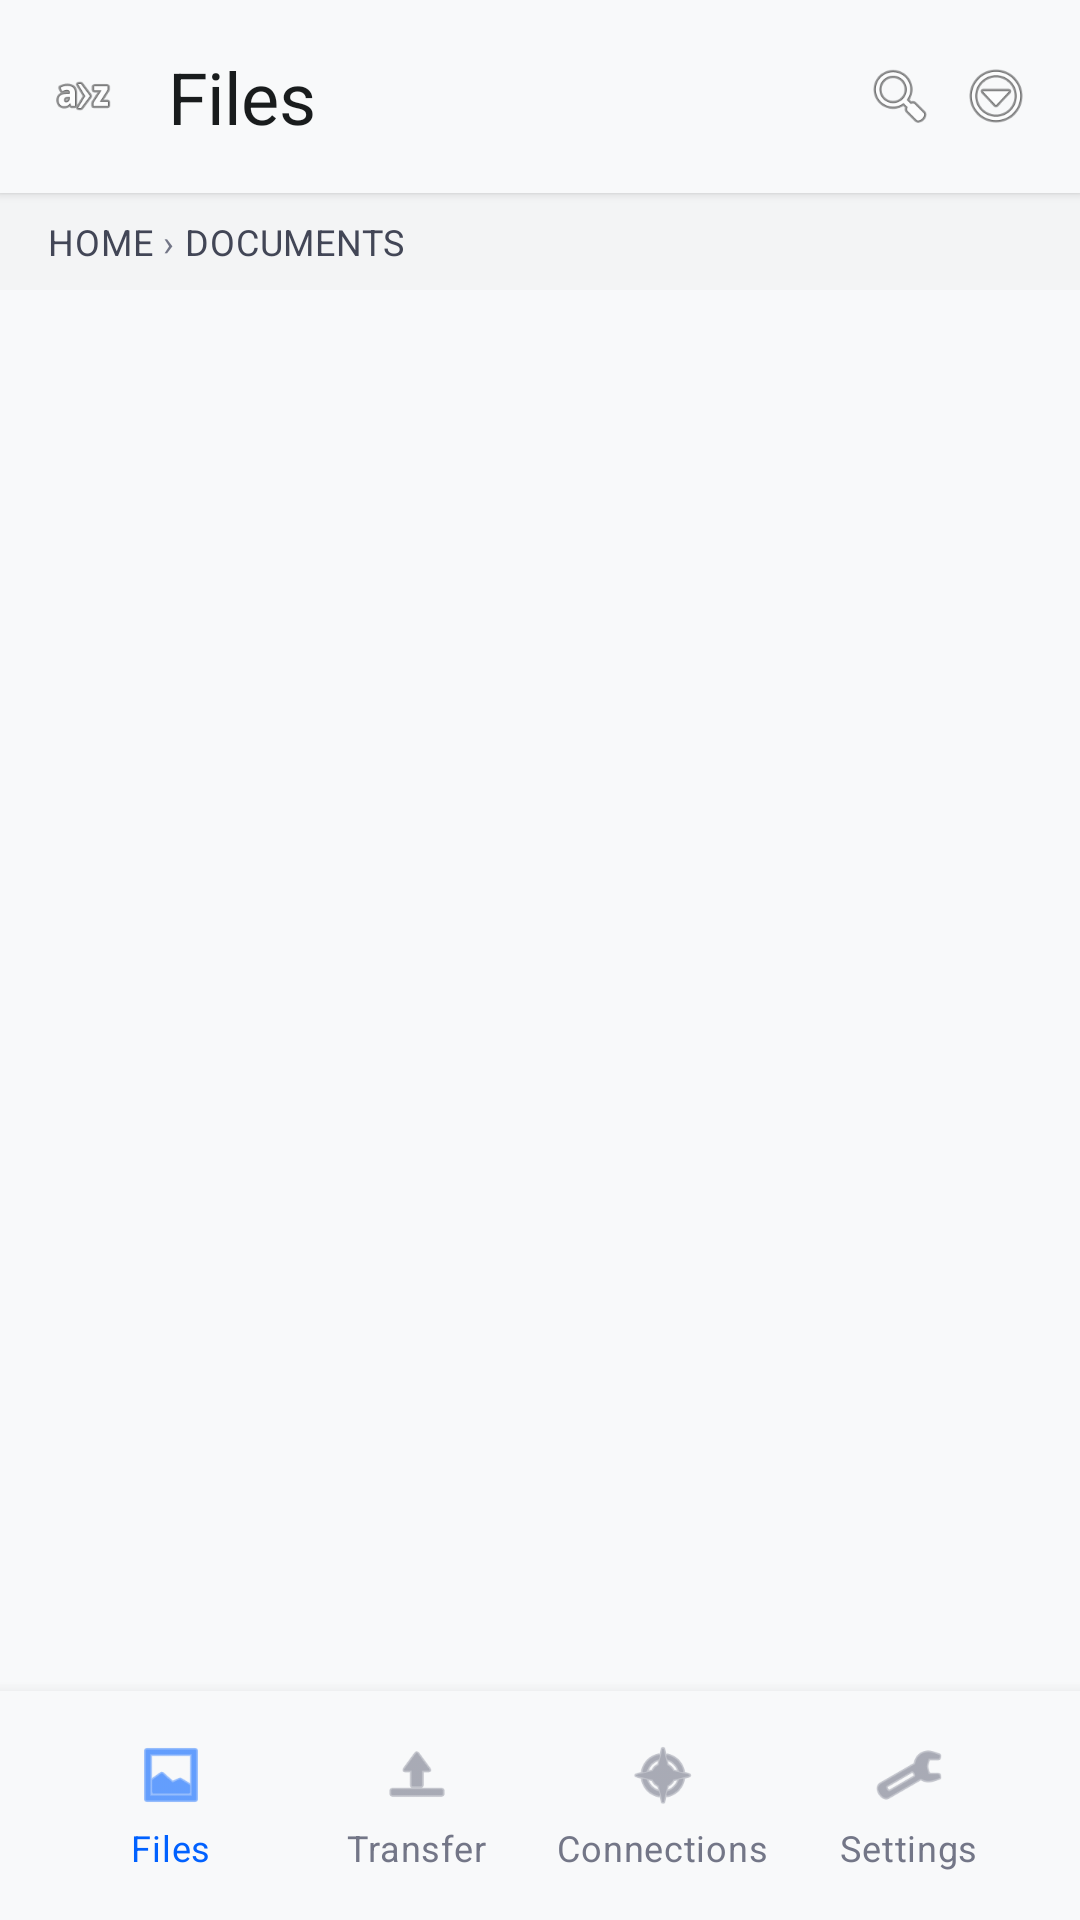

Named icons in this screenshot (1080w x 1920h) and their centers, point (x, y):
More: point (996, 96)
Search: point (900, 96)
